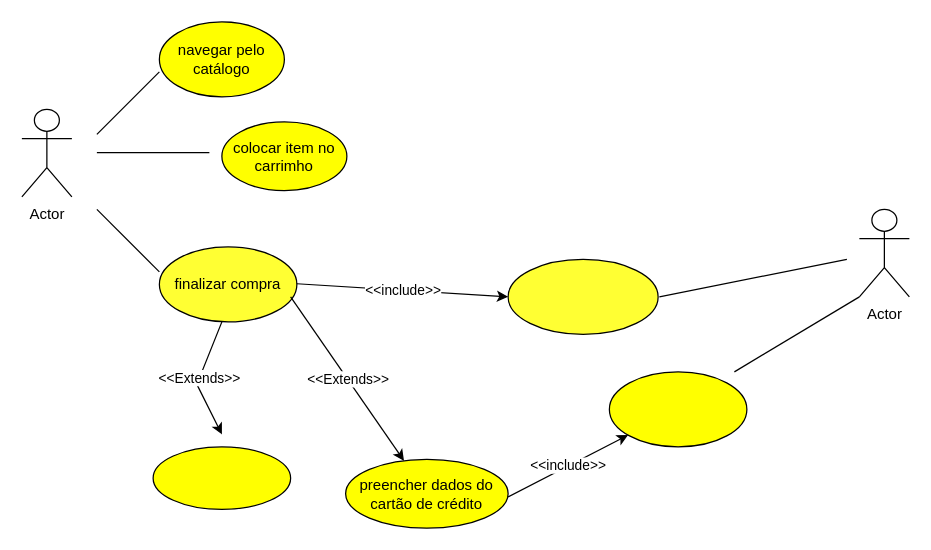
The diagram is 931 pixels wide and 550 high, and some of its shapes have lost their labels. The shapes that lost their labels are listed below. From the top down, each one's centre as x and y in pixels, then its label:
At point (582, 296): "faturar compra".
At point (677, 409): "verificar dados do cartão de crédito".
At point (221, 477): "informar endereço".
